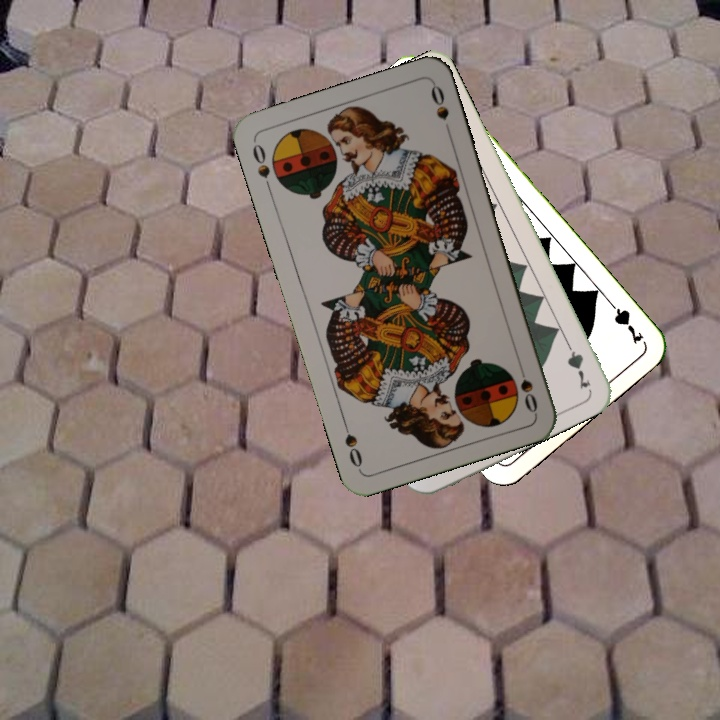G7: (602, 295, 646, 347), (560, 334, 594, 392)
SO: (514, 357, 540, 416), (248, 140, 275, 195)
